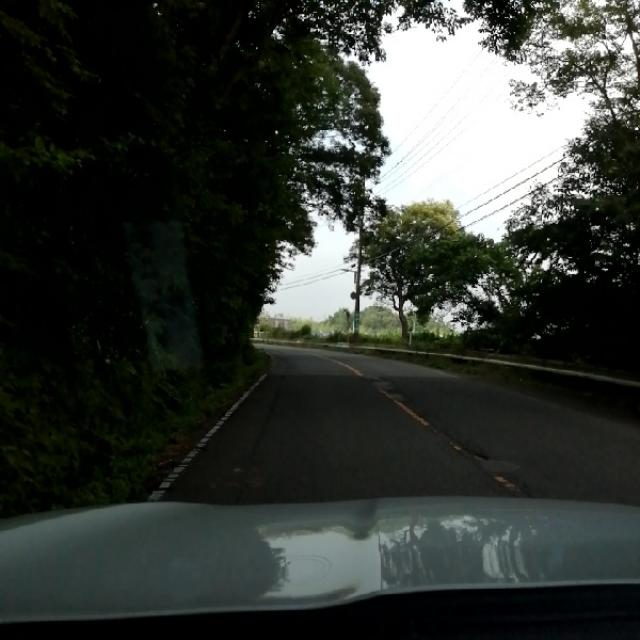pothole: (415, 412, 495, 492)
